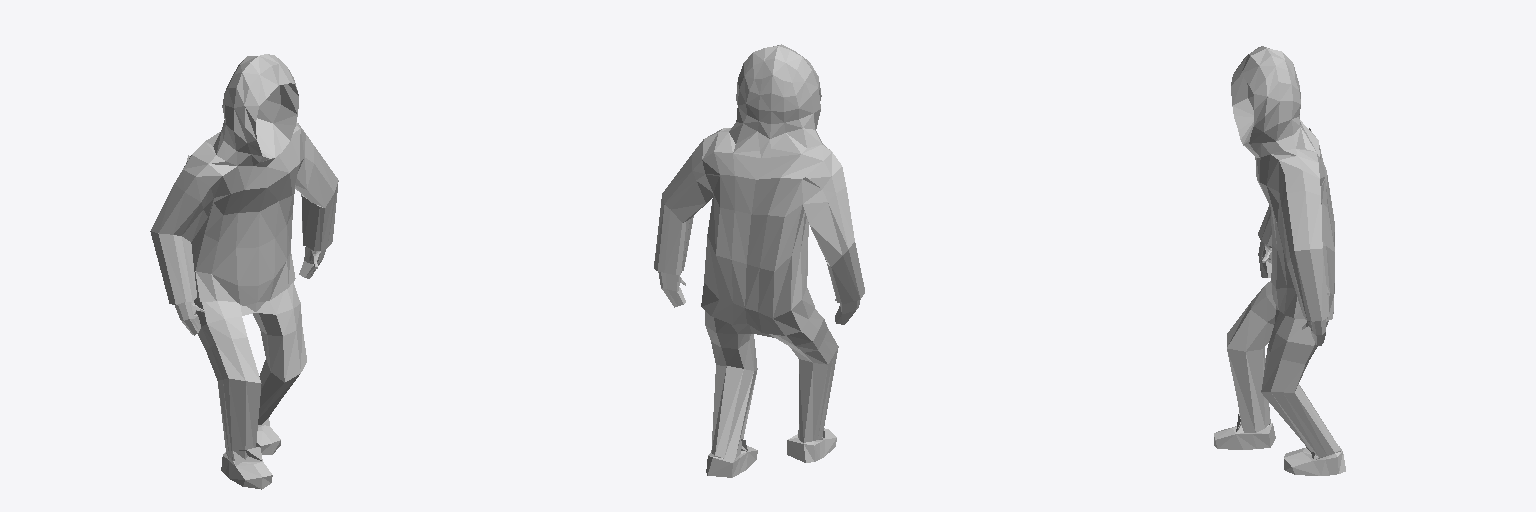
The model's file is Shadowmanv_000016.obj.
The picture shows the model from 3 angles: view 1: azimuth 30°, elevation 25°; view 2: azimuth 150°, elevation 25°; view 3: azimuth 270°, elevation 25°; orthographic projection.
Parts seen in each view (by area): view 1: Cube.000; view 2: Cube.000; view 3: Cube.000.
Part boxes in pixels (left/top/right/bottom): Cube.000: left=150, top=54, right=338, bottom=489; Cube.000: left=654, top=44, right=864, bottom=477; Cube.000: left=1214, top=46, right=1345, bottom=475.
Bounding box in the file's own units: 5.35 × 11.32 × 3.31.